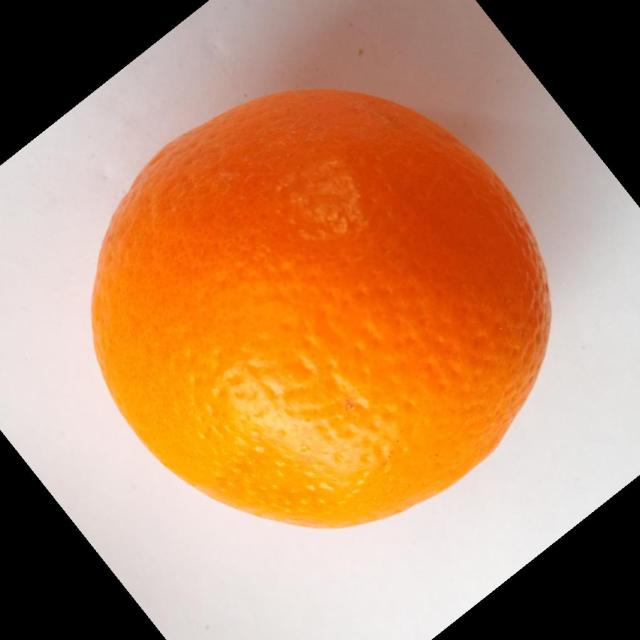fresh orange: (90, 86, 553, 530)
